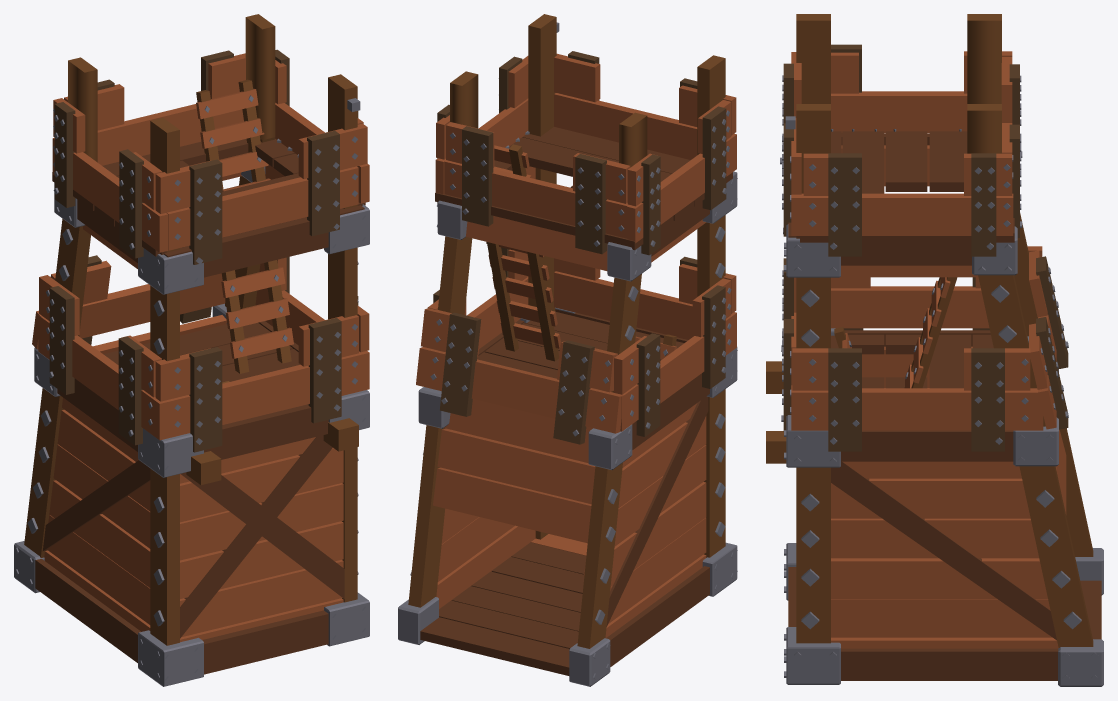
The model's file is GuardTower.fbx.
3 views of the same model, side by side, from view 1: azimuth 30°, elevation 25°; view 2: azimuth 150°, elevation 25°; view 3: azimuth 270°, elevation 25° (orthographic). The views are drawn at different scales.
Parts seen in each view (by area): view 1: GuardTower; view 2: GuardTower; view 3: GuardTower.
Boxes of the visible parts, box(x1,y1,x2,y2) form: GuardTower: box(14, 14, 369, 686); GuardTower: box(398, 14, 737, 686); GuardTower: box(766, 14, 1103, 686).
Size of the model in its own units: 1944 by 4519 by 2412.
